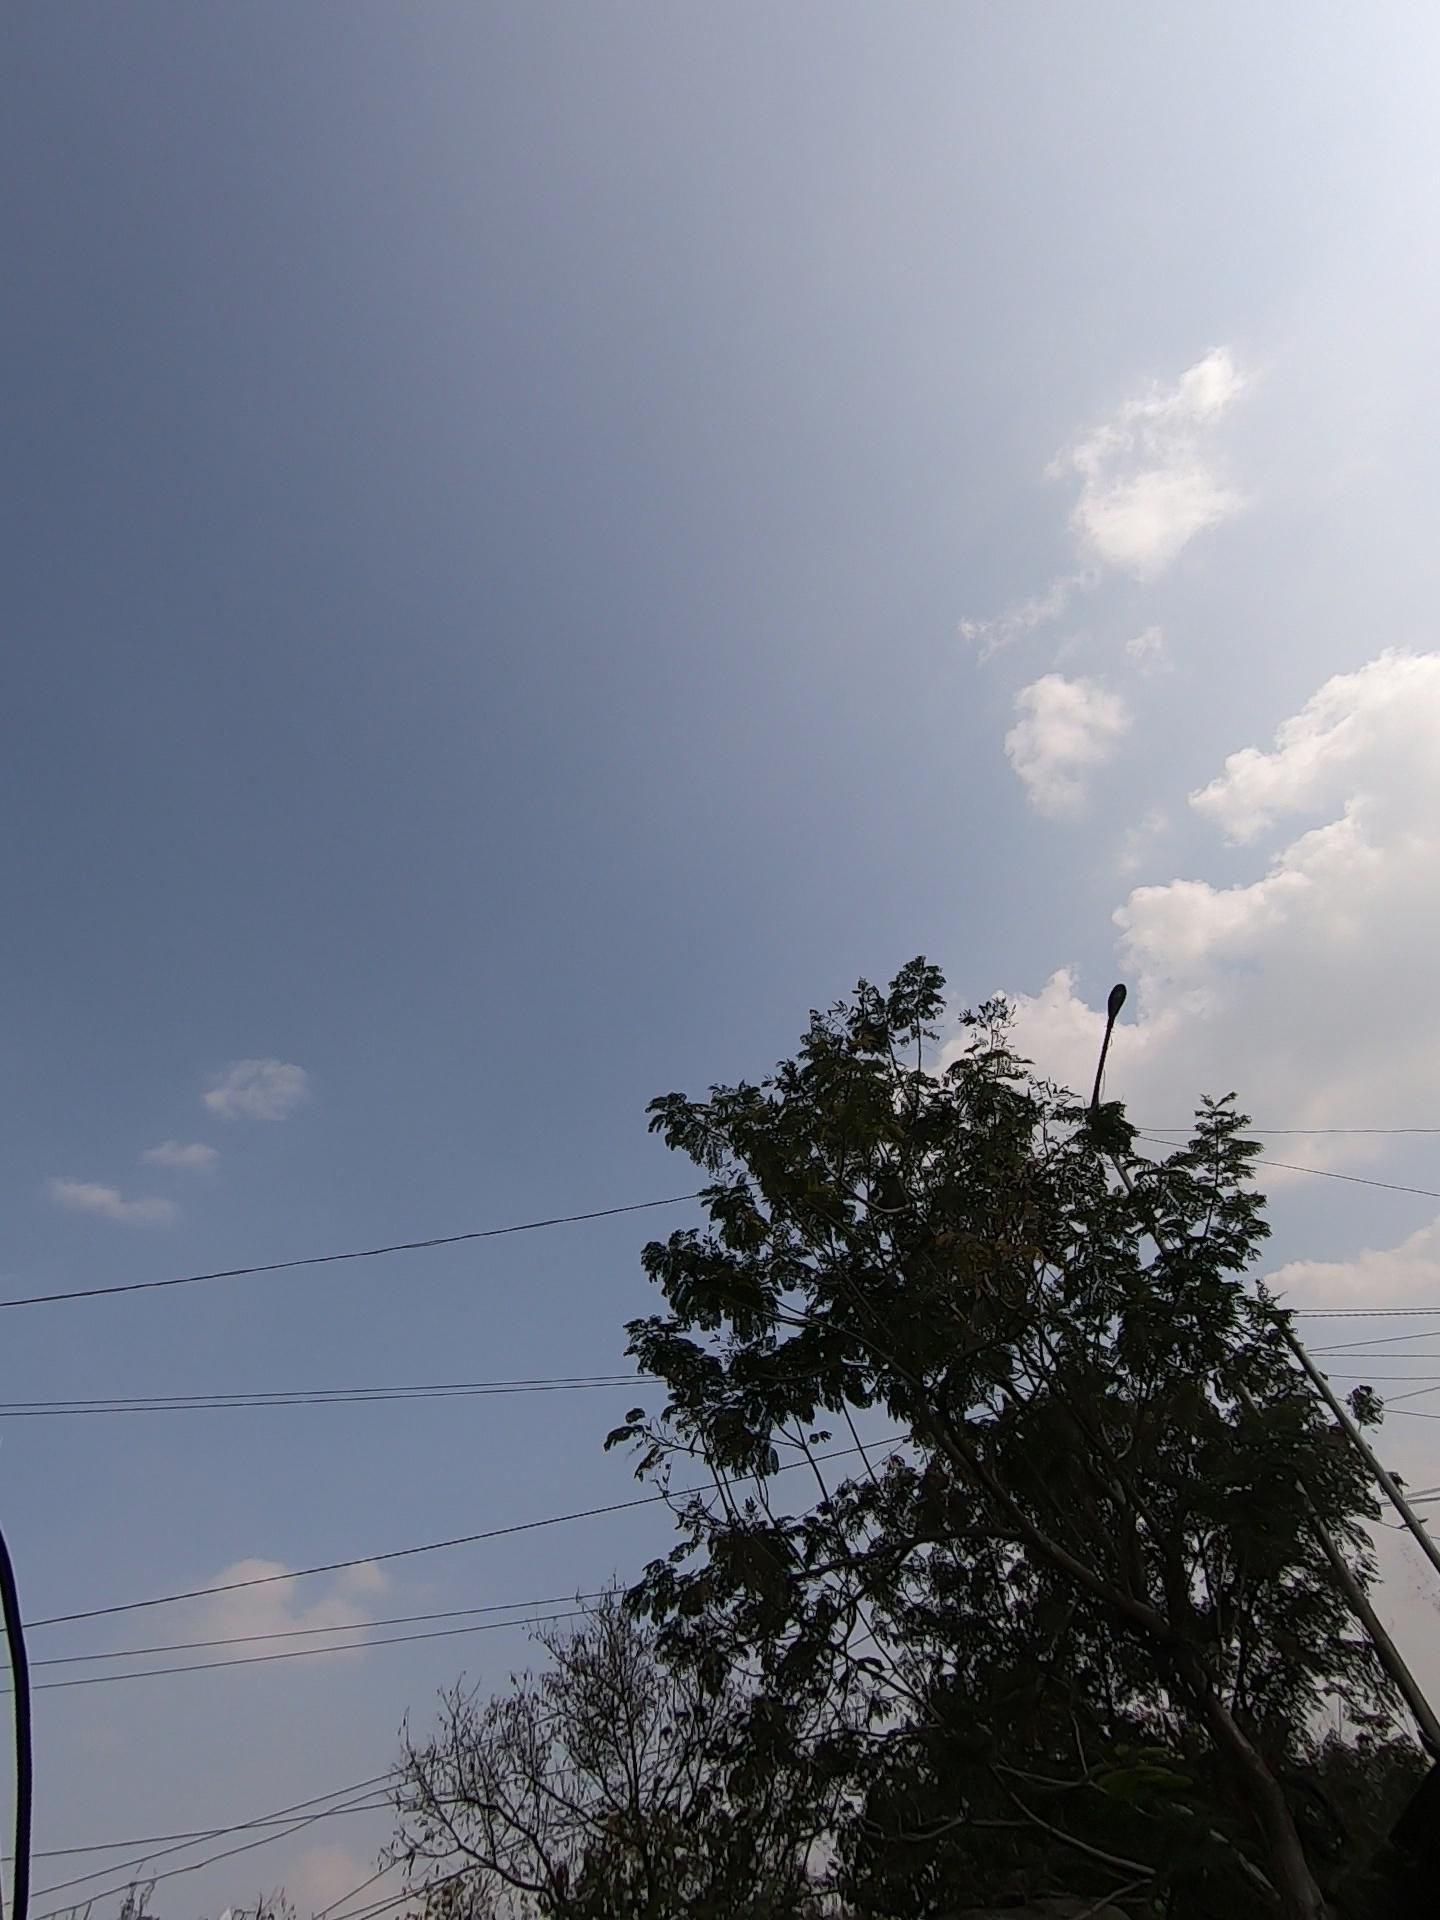off: (1045, 951, 1183, 1247)
